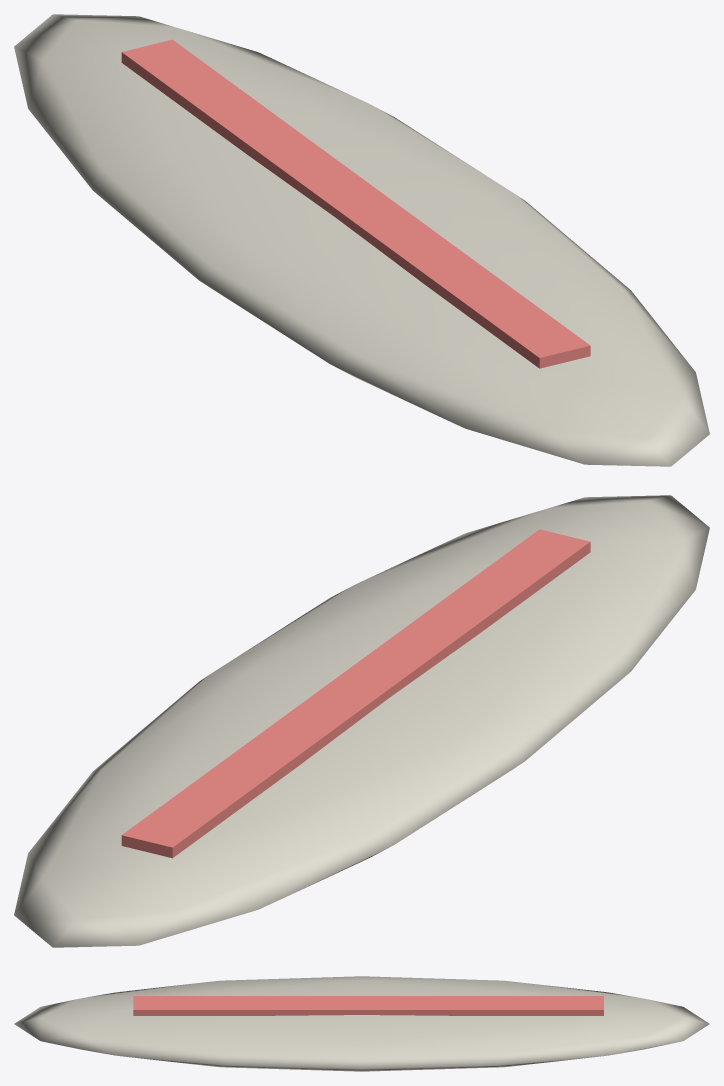
The model's file is surfboard.glb.
3 views of the same model, one above another, from view 1: azimuth 30°, elevation 25°; view 2: azimuth 150°, elevation 25°; view 3: azimuth 270°, elevation 25° (orthographic). The views are drawn at different scales.
Parts seen in each view (by area): view 1: surfboard; view 2: surfboard; view 3: surfboard.
Boxes of the visible parts, bbox=[...] form: surfboard: bbox=[14, 14, 709, 466]; surfboard: bbox=[14, 495, 709, 947]; surfboard: bbox=[14, 976, 709, 1071].
Bounding box in the file's own units: 0.64 × 0.125 × 2.1.
